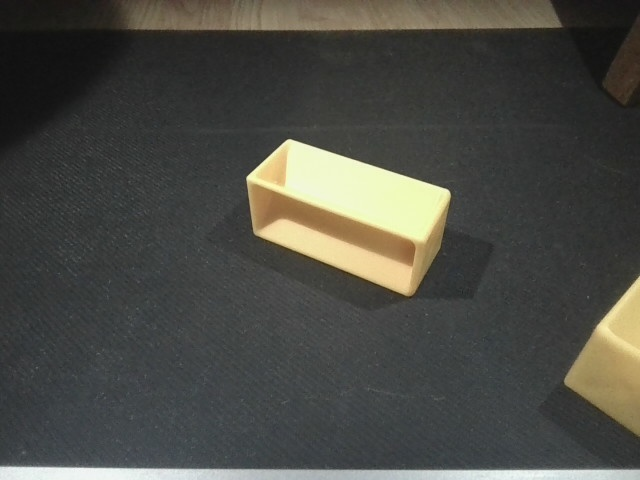YellowSample: (240, 133, 453, 303), (562, 269, 640, 444)
